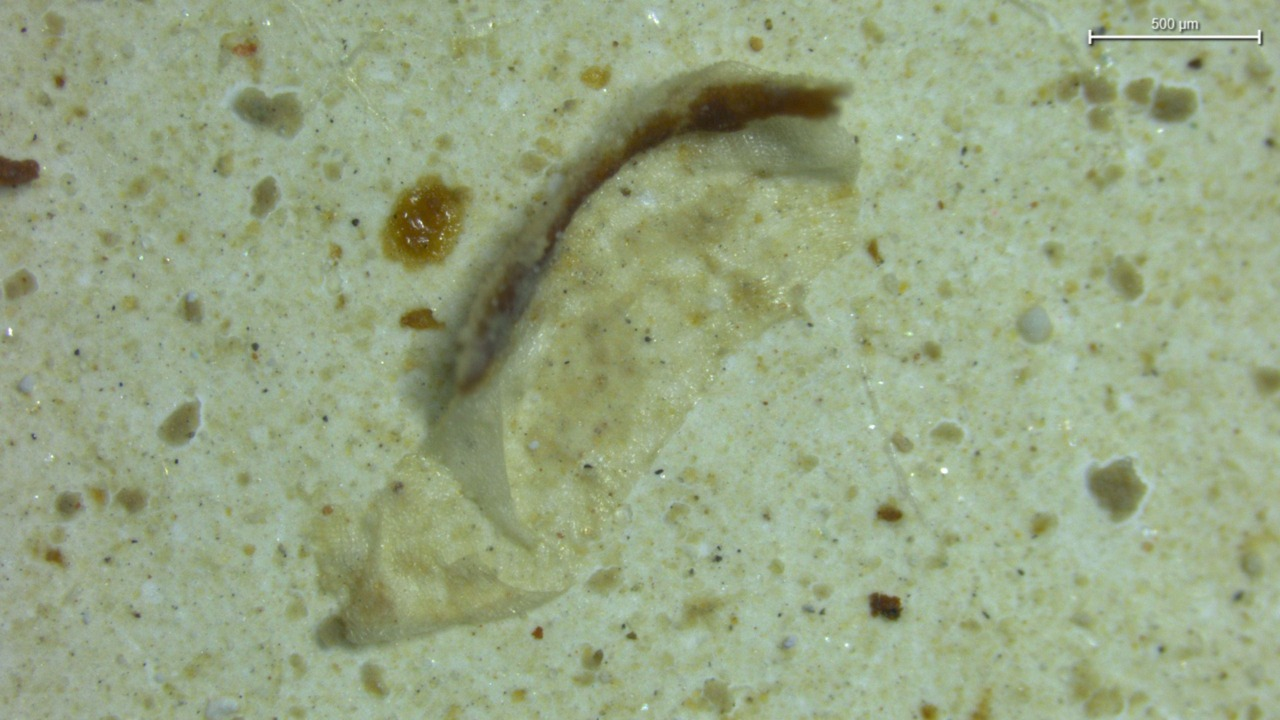microplastic_fragment: (322, 116, 858, 645), (1017, 305, 1052, 343)
